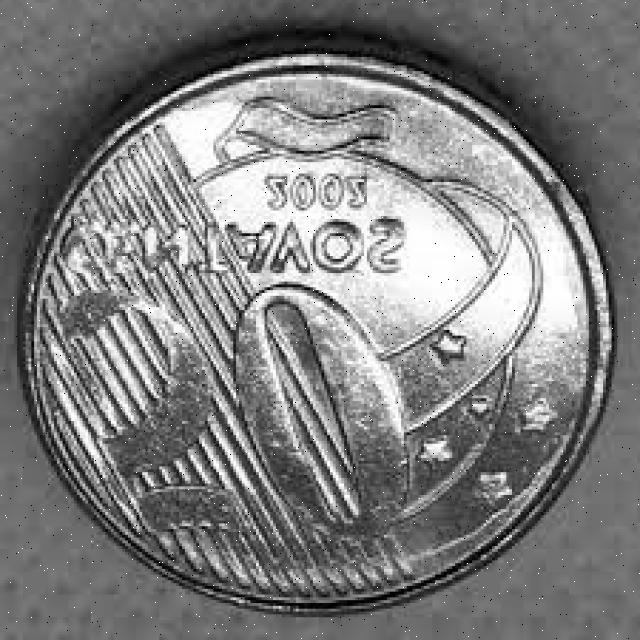50 cent: (28, 59, 618, 619)
